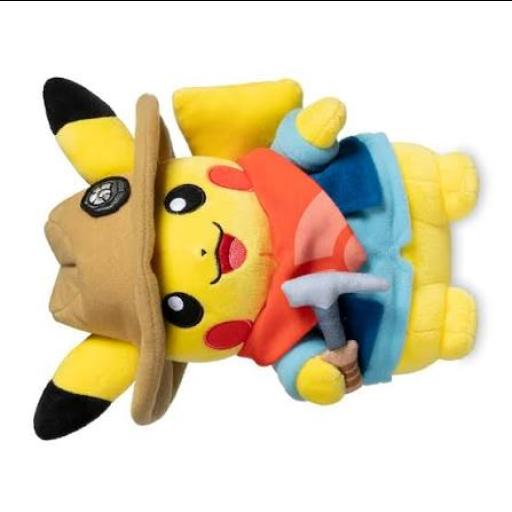Pikachu: (32, 76, 478, 440)
